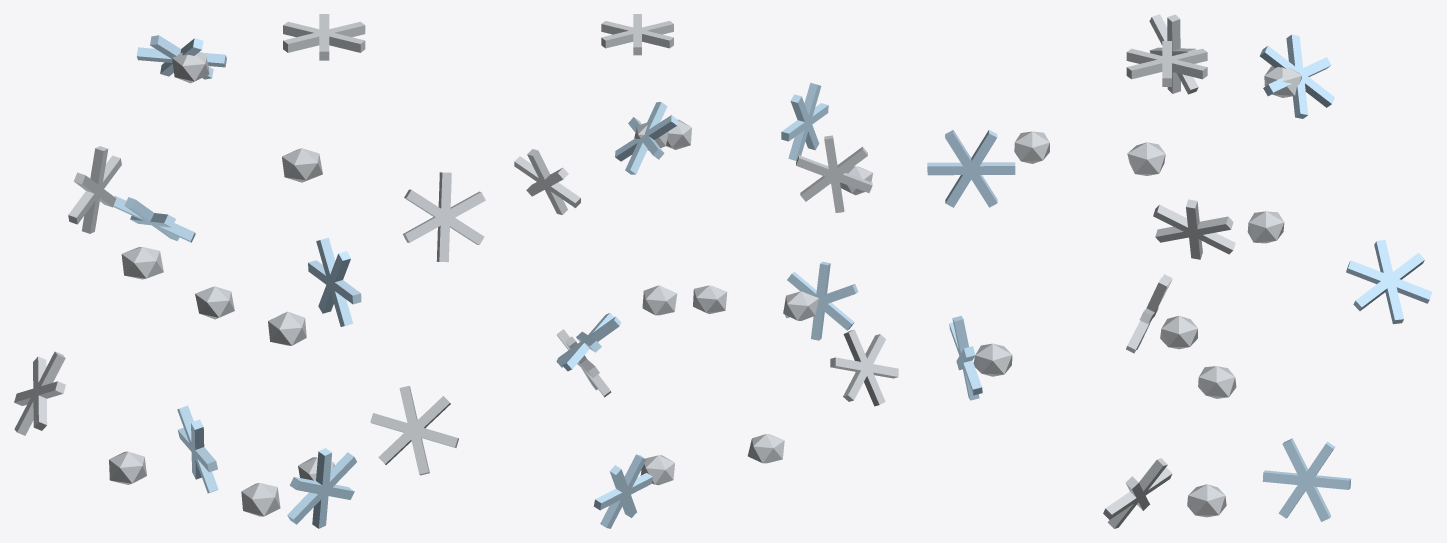
Rendered from fx_weather_snow_swirl.glb.
The picture shows the model from 3 angles, left to right: view 1: azimuth 30°, elevation 25°; view 2: azimuth 150°, elevation 25°; view 3: azimuth 270°, elevation 25°; orthographic projection. The views are drawn at different scales.
Visible parts, largest first — view 1: fx_weather_snow_swirl_snow_pure, fx_weather_snow_swirl_snow_ice; view 2: fx_weather_snow_swirl_snow_pure, fx_weather_snow_swirl_snow_ice; view 3: fx_weather_snow_swirl_snow_pure, fx_weather_snow_swirl_snow_ice.
Boxes of the visible parts, x1,y1,x2,y2 form: fx_weather_snow_swirl_snow_pure: (14, 14, 485, 516); fx_weather_snow_swirl_snow_ice: (113, 35, 361, 528); fx_weather_snow_swirl_snow_pure: (514, 14, 898, 485); fx_weather_snow_swirl_snow_ice: (556, 82, 858, 528); fx_weather_snow_swirl_snow_pure: (973, 14, 1301, 528); fx_weather_snow_swirl_snow_ice: (927, 34, 1432, 521).
Size of the model in its own units: 1.26 by 1.34 by 1.27.
